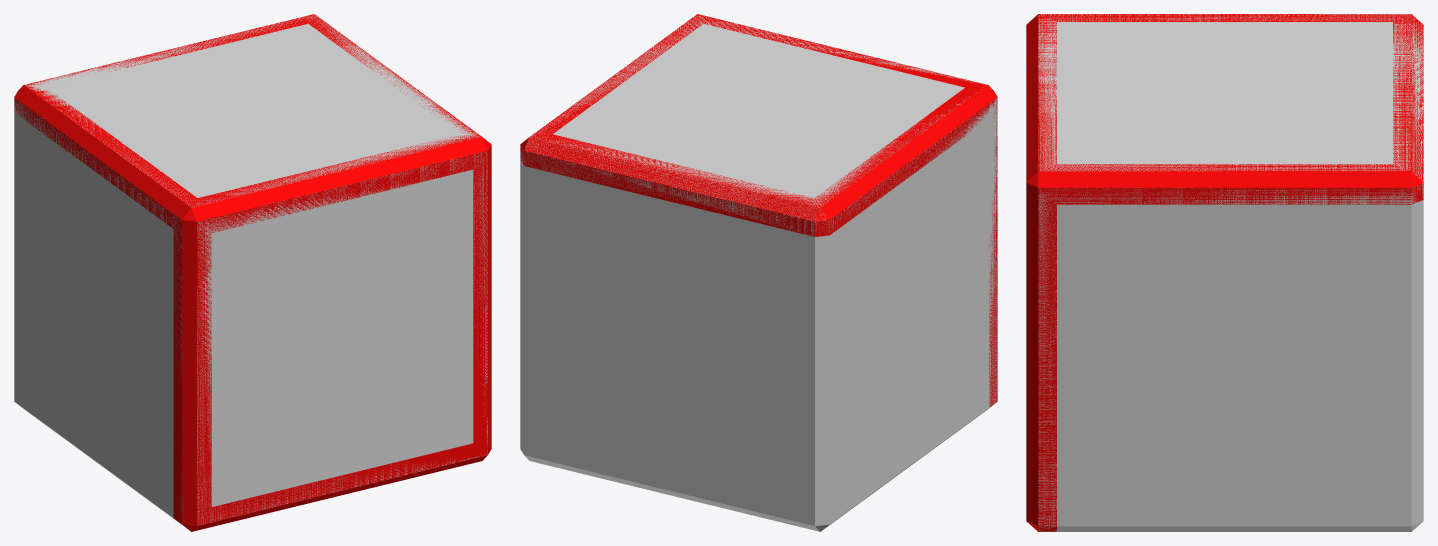
The model's file is frame-edge.glb.
3 views of the same model, side by side, from view 1: azimuth 30°, elevation 25°; view 2: azimuth 150°, elevation 25°; view 3: azimuth 270°, elevation 25° (orthographic). The views are drawn at different scales.
Visible parts, largest first — view 1: f-c-0.001; view 2: f-c-0.001; view 3: f-c-0.001.
Boxes of the visible parts, x1,y1,x2,y2 form: f-c-0.001: (14,14,491,531); f-c-0.001: (520,14,997,531); f-c-0.001: (1026,14,1423,531).
Size of the model in its own units: 1.16 by 1.16 by 1.16.
